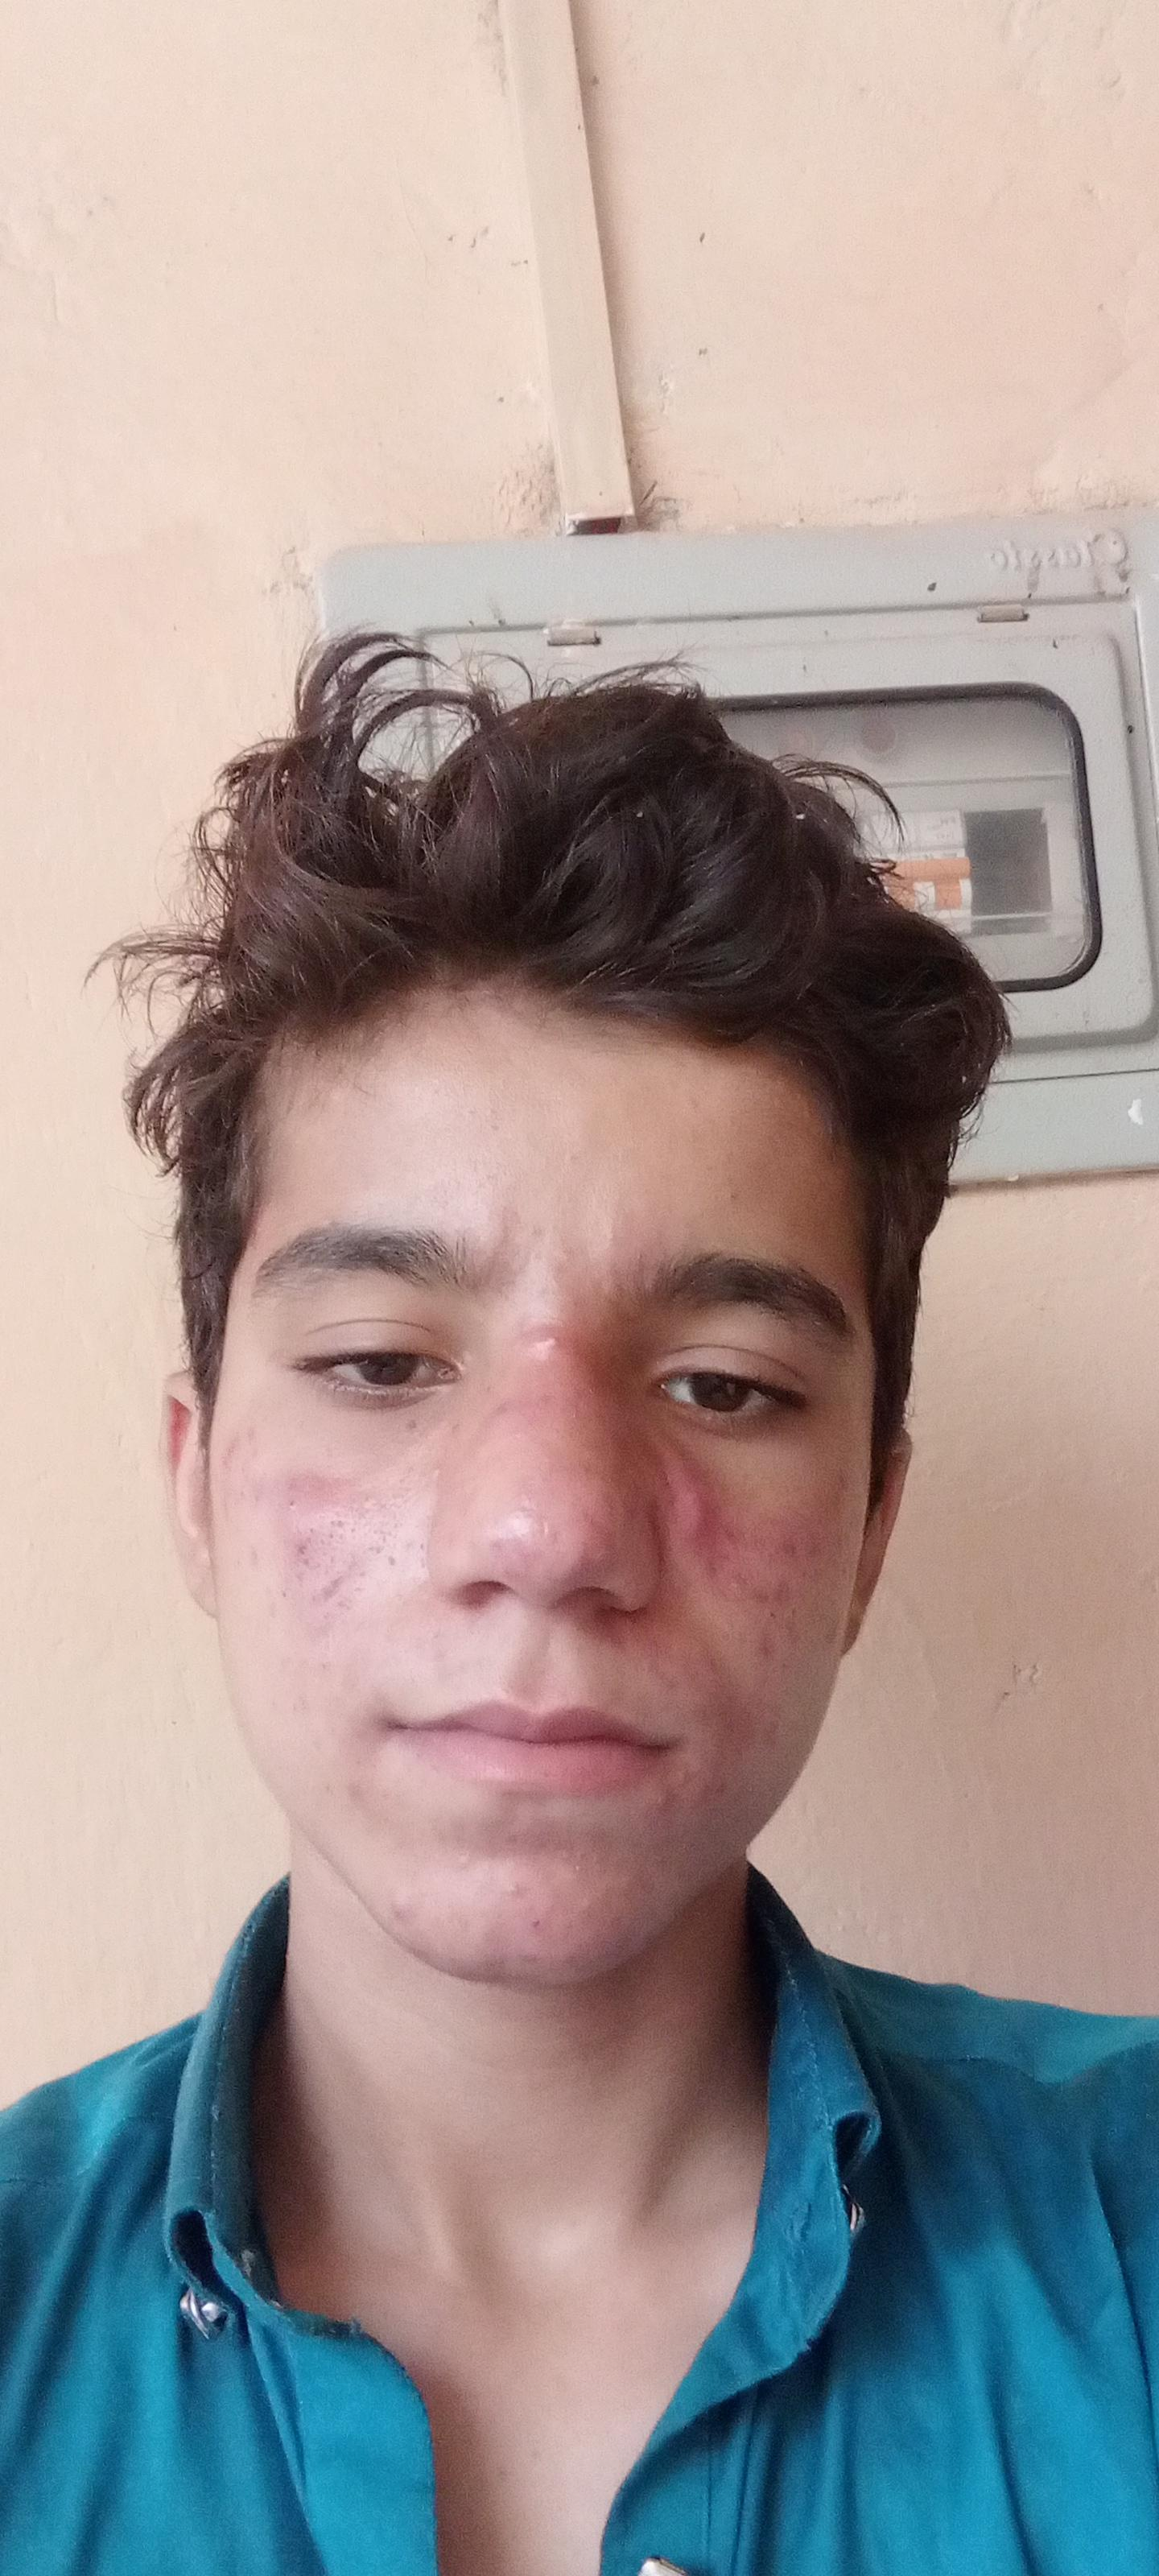Acne: (671, 1462, 719, 1548), (512, 1318, 579, 1362), (750, 1572, 796, 1612), (658, 1761, 694, 1809), (376, 1893, 425, 1927), (225, 1419, 256, 1464), (706, 1700, 737, 1745), (699, 1536, 727, 1585), (338, 1774, 371, 1809), (315, 1571, 350, 1603), (717, 1561, 750, 1595), (520, 1914, 560, 1942), (284, 1533, 315, 1564), (443, 1847, 476, 1876), (776, 1525, 804, 1559), (827, 1467, 855, 1500), (745, 1621, 775, 1649), (243, 1480, 269, 1511), (501, 1871, 532, 1898), (598, 1216, 621, 1250), (496, 1827, 524, 1853), (243, 1543, 266, 1574), (719, 1513, 744, 1538), (558, 1143, 581, 1168), (484, 1533, 507, 1557)
Englarged-Pores: (289, 1498, 402, 1582)
